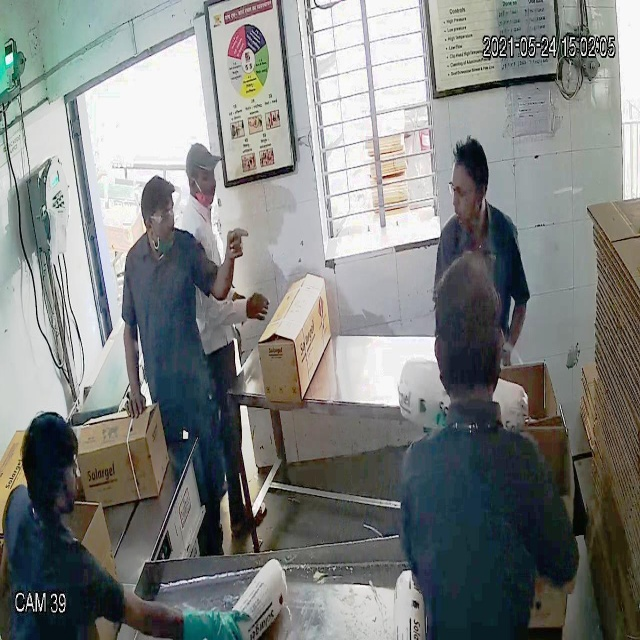Gafas: (446, 178, 489, 209), (139, 204, 175, 228)
